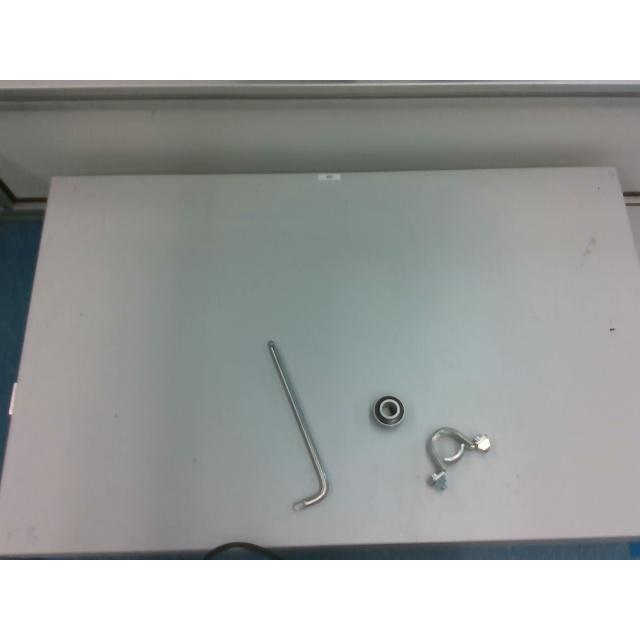AllenKey: (266, 340, 330, 510)
Bearing2: (370, 395, 402, 425)
Housing: (425, 426, 489, 486)
